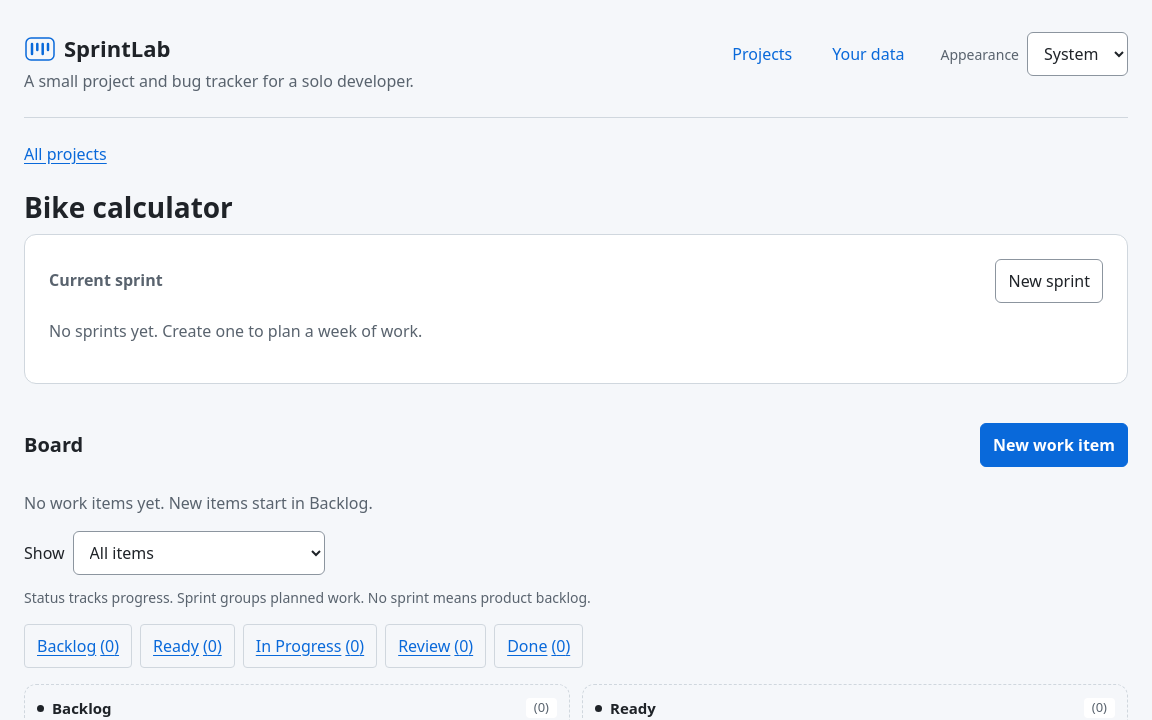
Test: Sprints › prefills a name and a one-week range starting today
The width and height of the screenshot is (1152, 720).
Click the button "New sprint" at (1049, 281), box x1=996 y1=259 x2=1103 y2=303
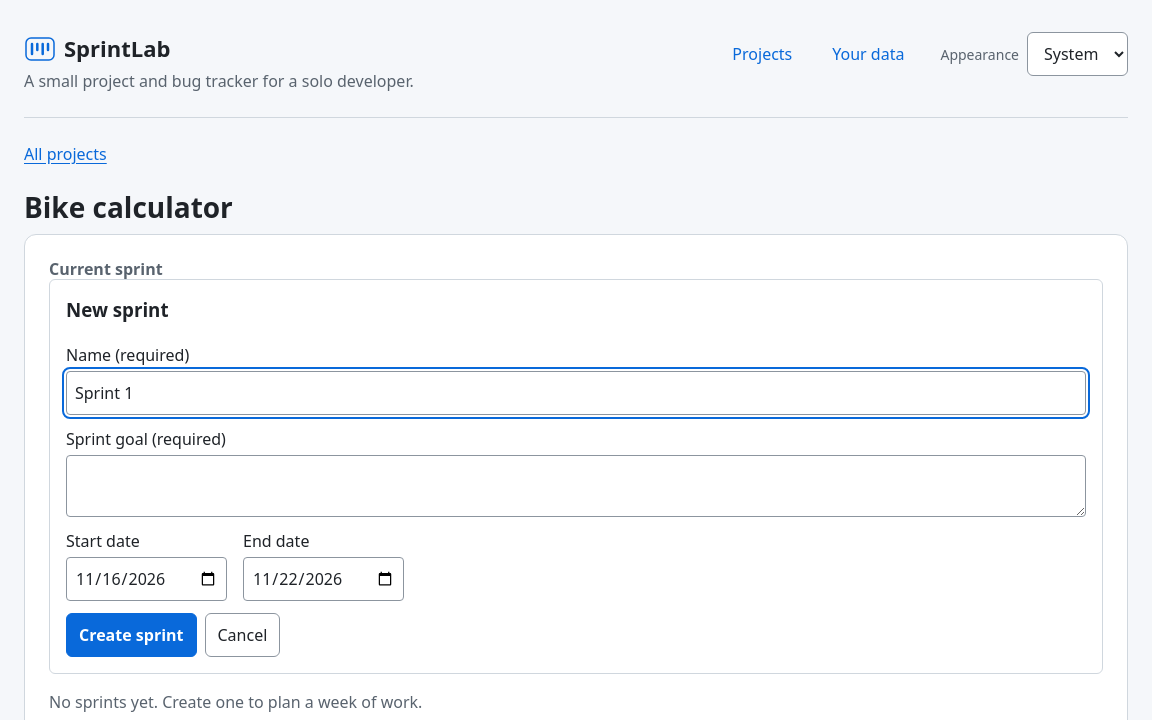
expect the field labelled "Name (required)" holds "Sprint 1": met, box x1=66 y1=371 x2=1086 y2=415
expect the date field labelled "Start date" holds "2026-11-16": met, box x1=66 y1=557 x2=227 y2=601
expect the date field labelled "End date" holds "2026-11-22": met, box x1=243 y1=557 x2=404 y2=601
